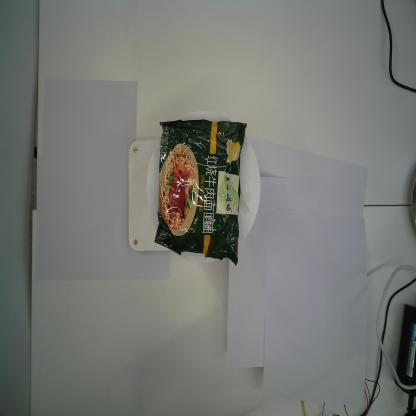Instant Noodles: (152, 115, 248, 269)
